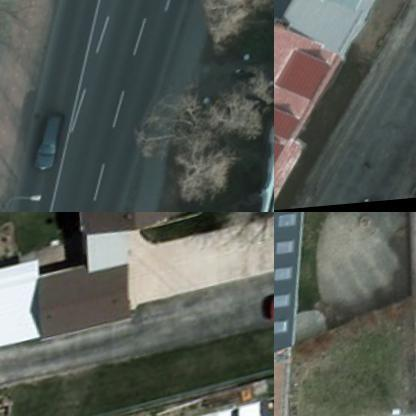car: (24, 114, 74, 177), (352, 199, 392, 206)
pickup: (216, 397, 273, 415)
